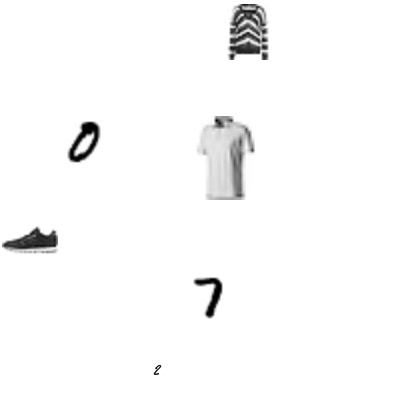0: (56, 112, 112, 168)
2: (150, 363, 164, 377)
7: (182, 264, 238, 320)
Pullover: (220, 4, 276, 60)
Sneaker: (2, 211, 58, 267)
T-shirt/top: (182, 116, 266, 200)
